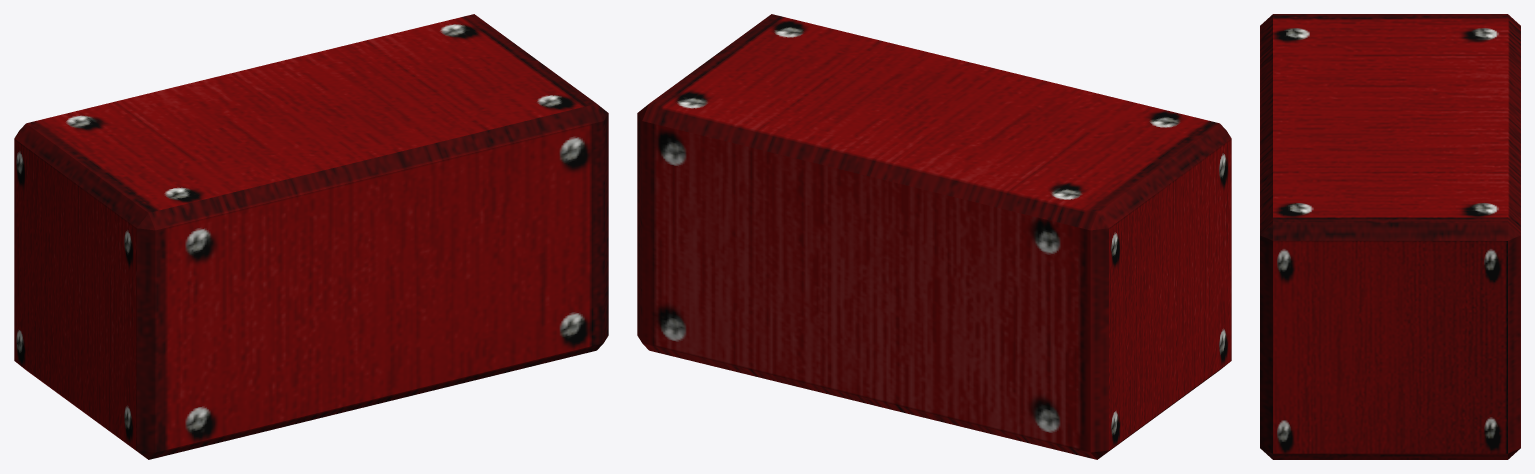
The model's file is Box_1_2x1x1_red.obj.
3 views of the same model, side by side, from view 1: azimuth 30°, elevation 25°; view 2: azimuth 150°, elevation 25°; view 3: azimuth 270°, elevation 25° (orthographic). The views are drawn at different scales.
Visible parts, largest first — view 1: default; view 2: default; view 3: default.
Boxes of the visible parts, box(x1,y1,x2,y2) form: default: box(14, 14, 608, 459); default: box(637, 14, 1231, 459); default: box(1260, 14, 1520, 459).
Bounding box in the file's own units: 2 × 1 × 1.
